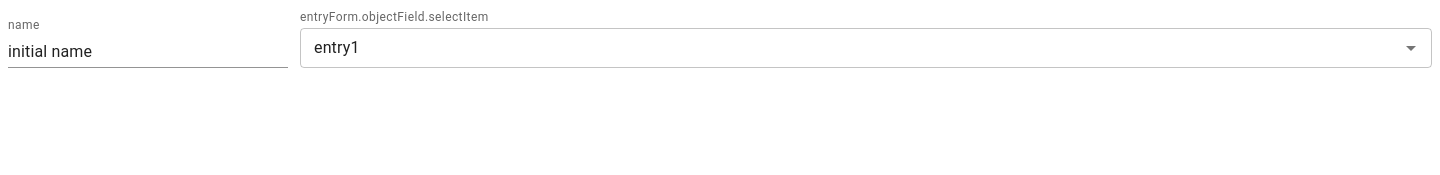
Test: ObjectAttributeValueField › should provide named-object value editor
This screenshot has width=1440, height=175.
Expected: the dropdown holds "entry1", [306,34,1367,62]
// Edit name
Replace the text in the field with "new name". click: coordinates (148, 52)
box: [8,36,288,68]
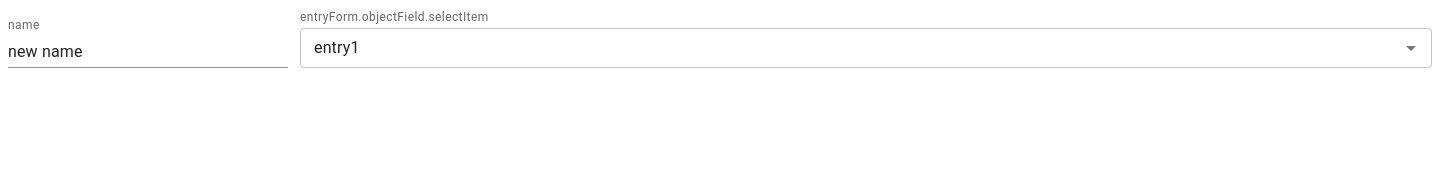
// Open the select options
Click the button named "Open". click: coordinates (1411, 48)
box: [1397,34,1425,62]
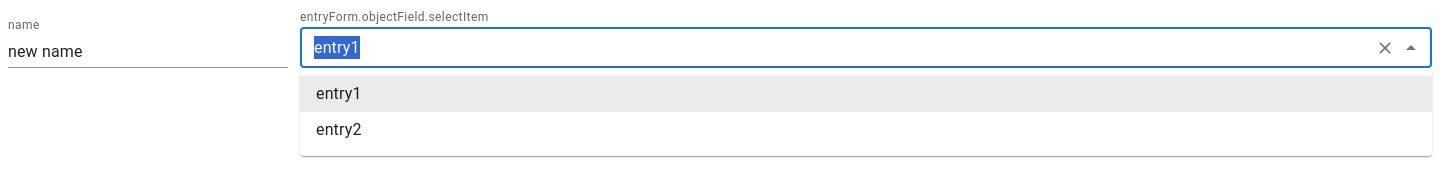
Click the option "entry2". click: coordinates (339, 130)
box: [316,120,362,139]
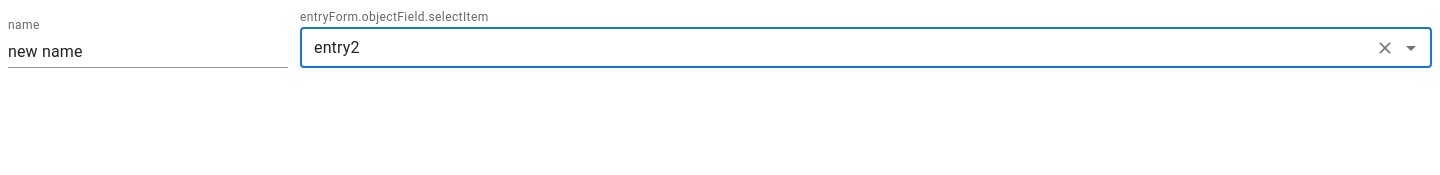
Result: the dropdown holds "entry2" at [306,34,1367,62]
